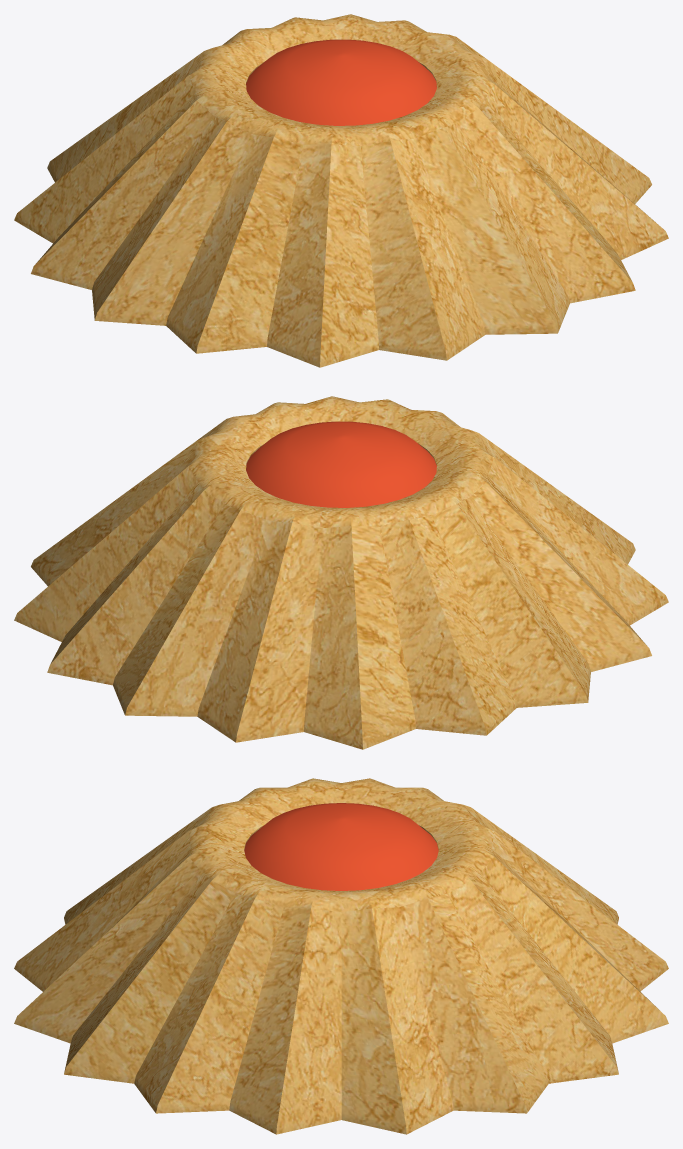
Rendered from печенька.fbx.
3 renders of one model, top to bottom at view 1: azimuth 30°, elevation 25°; view 2: azimuth 150°, elevation 25°; view 3: azimuth 270°, elevation 25°, orthographic.
Visible parts, largest first — view 1: Окружность.045; view 2: Окружность.045; view 3: Окружность.045.
Boxes of the visible parts, bbox=[...] form: Окружность.045: bbox=[14, 14, 668, 367]; Окружность.045: bbox=[14, 396, 668, 749]; Окружность.045: bbox=[14, 778, 668, 1134].
Bounding box in the file's own units: 108 × 32.74 × 108.
2 materials, 1 textured.
